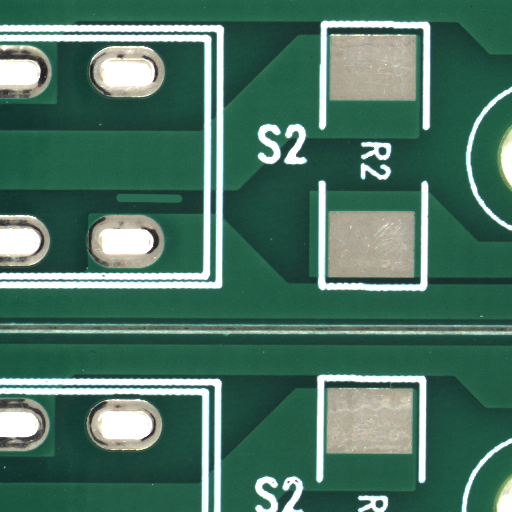Spurious_copper: (149, 197, 219, 212)
